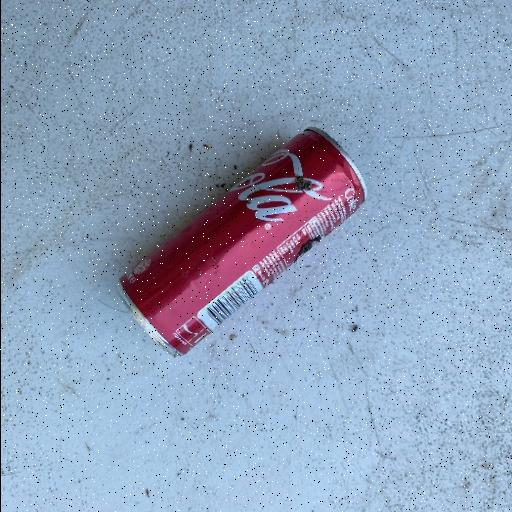Metal: (114, 125, 368, 359)
